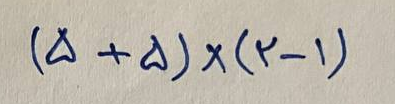character: (139, 34, 170, 71), (47, 28, 77, 66), (234, 29, 253, 75), (95, 41, 131, 65), (329, 29, 346, 78), (173, 34, 189, 83), (30, 26, 45, 77), (204, 43, 227, 74), (257, 38, 278, 68), (314, 36, 327, 69), (281, 53, 306, 63)
